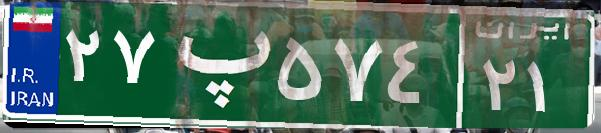1: (525, 38, 570, 115)
2: (57, 26, 110, 107), (475, 38, 525, 113)
4: (385, 28, 445, 110)
5: (273, 28, 330, 110)
7: (330, 28, 385, 110), (110, 28, 158, 105)
پ: (158, 15, 273, 115)
